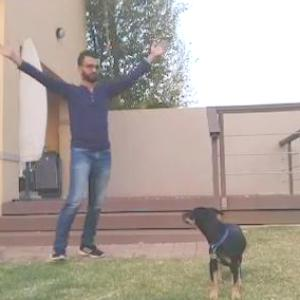takeoff: (1, 42, 171, 272)
